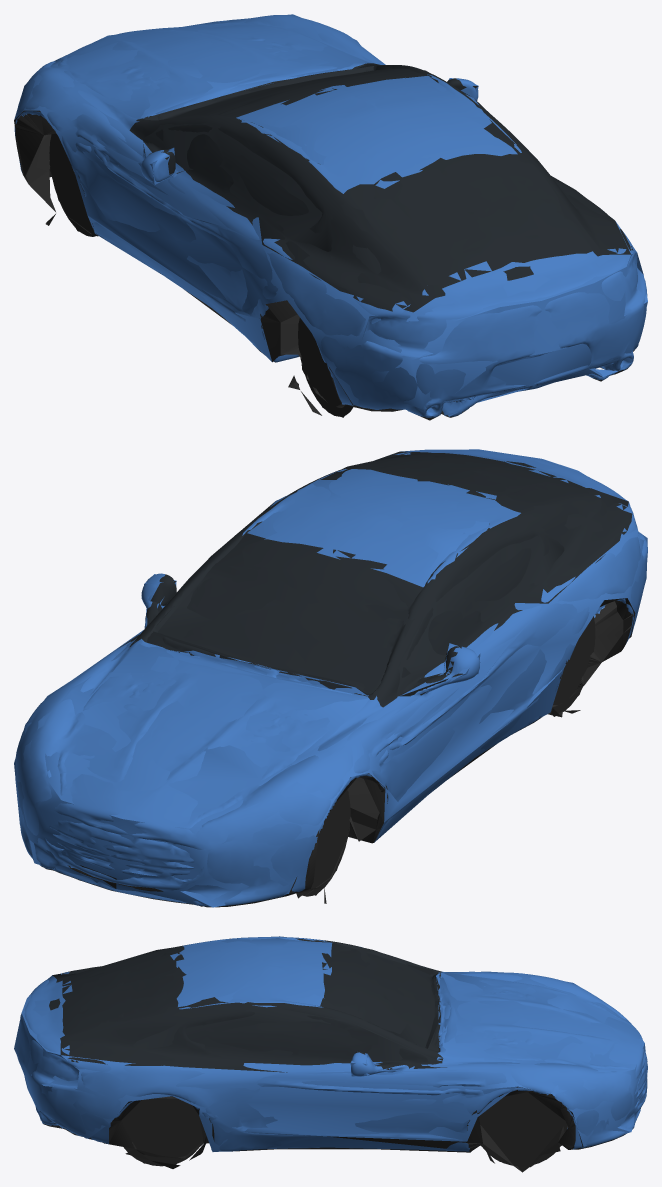
The model's file is aston-martin-rapide.glb.
The picture shows the model from 3 angles, top to bottom: view 1: azimuth 30°, elevation 25°; view 2: azimuth 150°, elevation 25°; view 3: azimuth 270°, elevation 25°; orthographic projection. The views are drawn at different scales.
Visible parts, largest first — view 1: body, far; view 2: body, far; view 3: body, far.
Boxes of the visible parts, x1,y1,x2,y2 form: body: [14, 15, 647, 420]; far: [14, 14, 647, 417]; body: [15, 449, 647, 907]; far: [14, 449, 647, 907]; body: [16, 937, 647, 1172]; far: [14, 936, 647, 1172].
Bounding box in the file's own units: 2.24 × 1.49 × 5.1.
